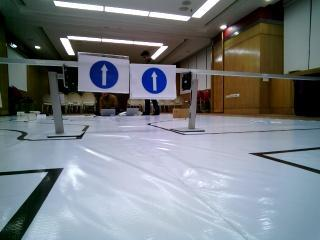straight: (79, 51, 128, 94), (131, 62, 176, 100)
